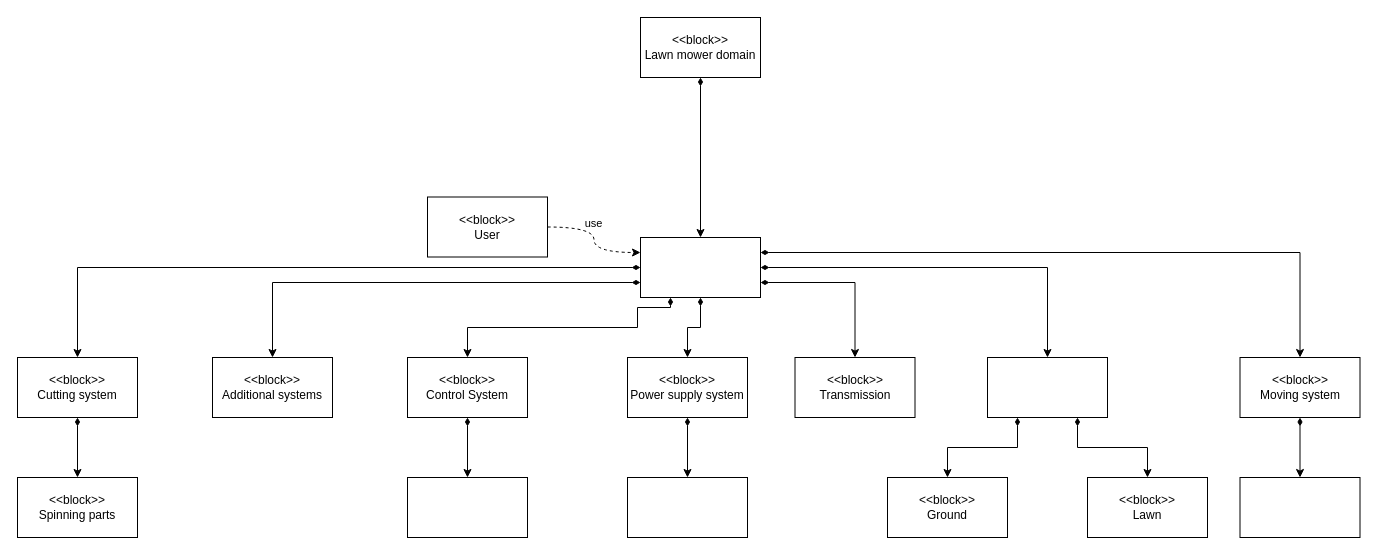
The diagram is 1378 pixels wide and 555 high, and some of its shapes have lost their labels. Each missing label, with the box of its shape:
<<block>> "system of interest" Lawn mower: (640, 236, 760, 298)
<<block>> Engine: (626, 476, 748, 538)
<<block>> Handle: (1239, 476, 1360, 538)
<<block>> Physical environment: (986, 356, 1108, 418)
<<block>> Start button: (406, 476, 528, 538)
